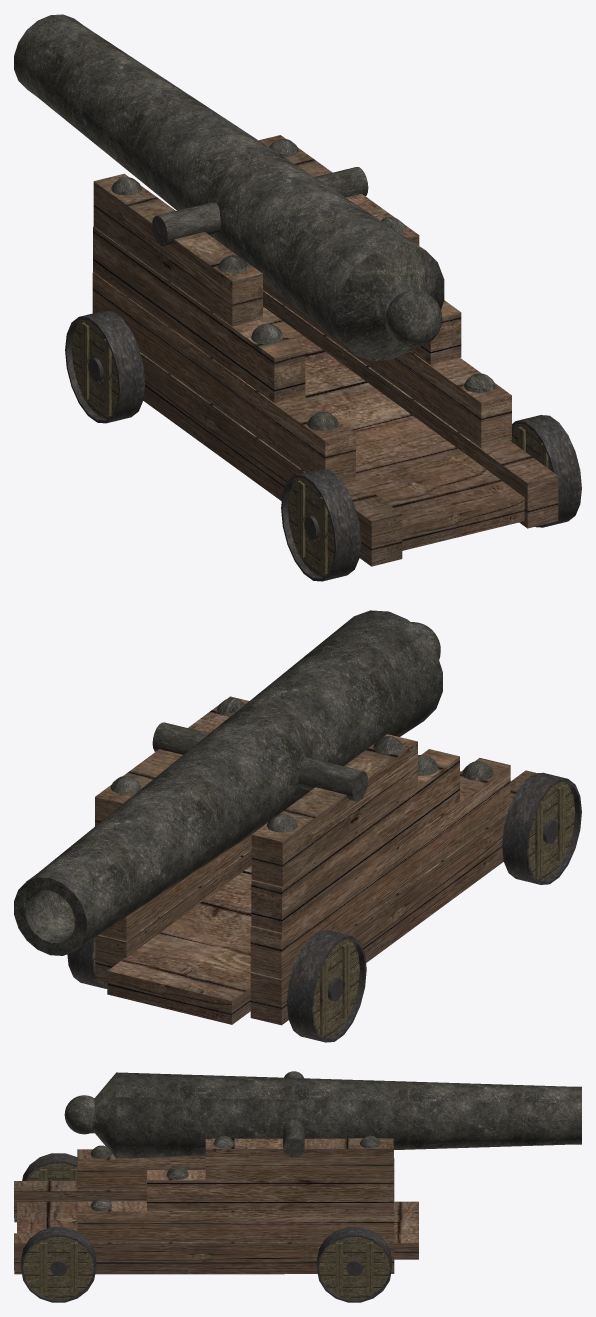
Rendered from cannon_2.FBX.
3 views of the same model, one above another, from view 1: azimuth 30°, elevation 25°; view 2: azimuth 150°, elevation 25°; view 3: azimuth 270°, elevation 25° (orthographic). The views are drawn at different scales.
Visible parts, largest first — view 1: frame, cannon, wheel001, wheel002, wheel003; view 2: frame, cannon, wheel001, wheel002, wheel; view 3: frame, cannon, wheel003, wheel, wheel002.
Part boxes in pixels (box(x1,y1,x2,y2)): frame: box(92, 135, 558, 566); cannon: box(14, 14, 444, 361); wheel001: box(65, 310, 145, 423); wheel002: box(281, 469, 361, 581); wheel003: box(511, 415, 581, 527); frame: box(95, 696, 536, 1025); cannon: box(14, 610, 442, 955); wheel001: box(287, 930, 366, 1042); wheel002: box(502, 772, 581, 884); wheel: box(67, 937, 107, 988); frame: box(14, 1135, 418, 1274); cannon: box(64, 1071, 581, 1158); wheel003: box(21, 1227, 96, 1302); wheel: box(316, 1227, 391, 1302); wheel002: box(22, 1153, 77, 1180).
Bounding box in the file's own units: 26.84 × 28.25 × 78.39.
5 materials, 5 textured.
